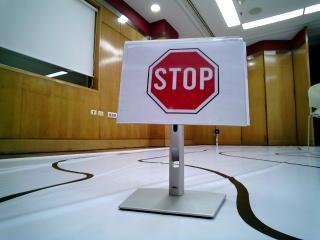stop: (125, 47, 239, 123)
